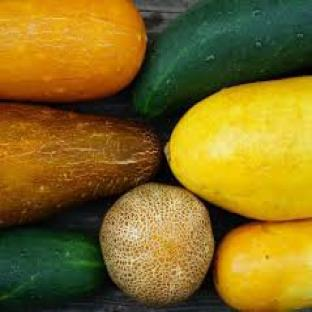Cucumber: (0, 230, 104, 310)
